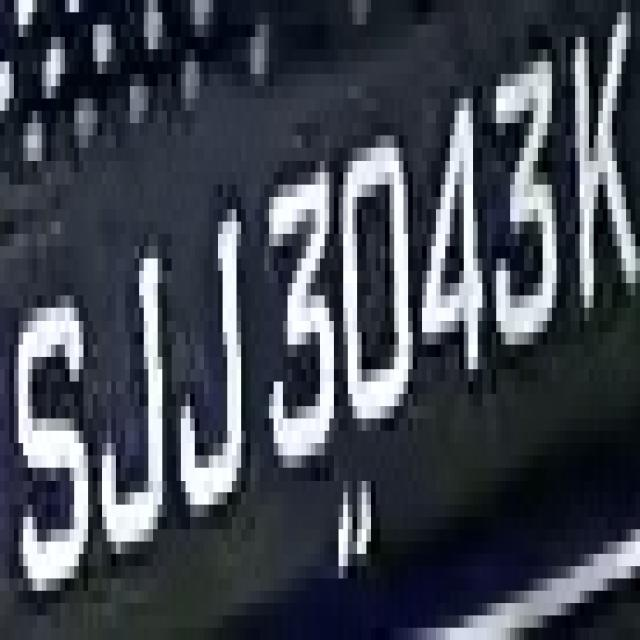0: (334, 98, 422, 456)
3: (250, 135, 348, 480), (478, 25, 566, 357)
4: (404, 49, 496, 394)
J: (162, 209, 269, 529), (88, 197, 176, 554)
K: (561, 12, 640, 332)
S: (0, 271, 102, 615)
